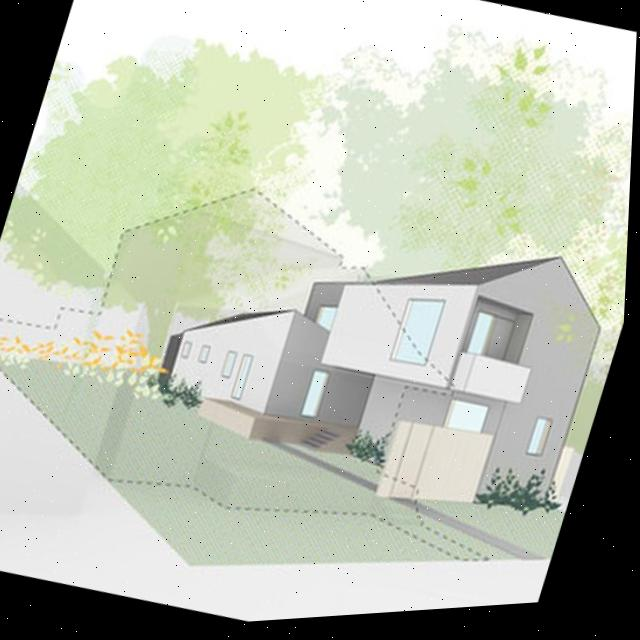building: (141, 157, 627, 538)
